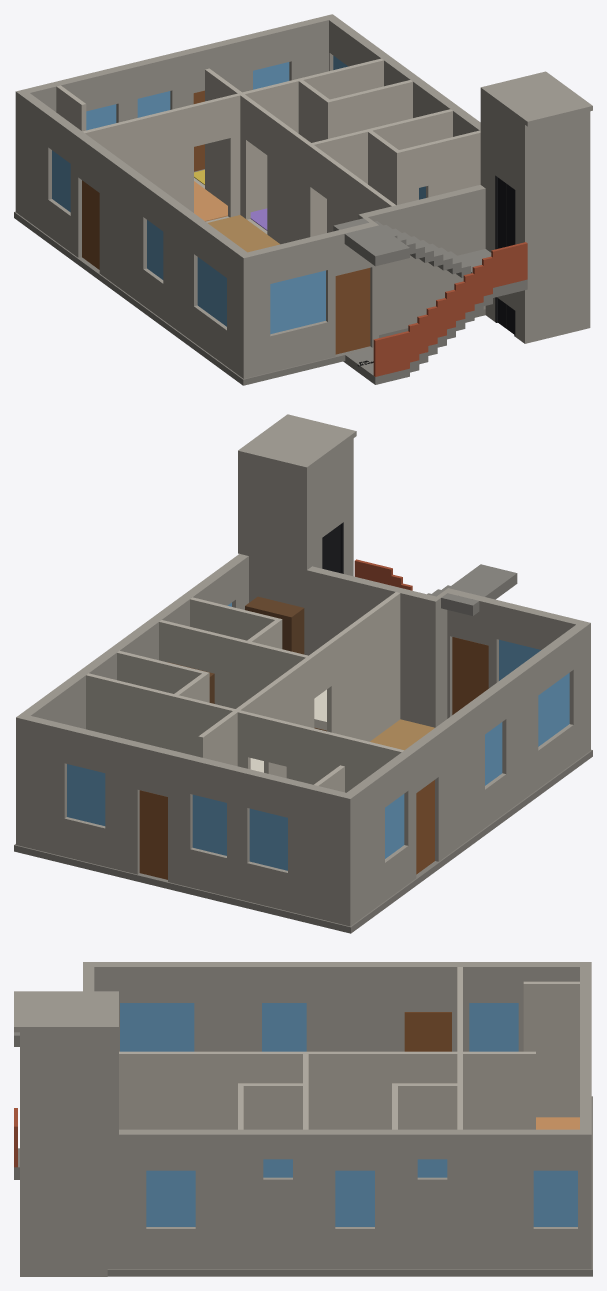
File: 07_second_floor.glb
3 renders of one model, top to bottom at view 1: azimuth 30°, elevation 25°; view 2: azimuth 150°, elevation 25°; view 3: azimuth 270°, elevation 25°, orthographic. The views are drawn at different scales.
Visible parts, largest first — view 1: SF_Wall_Exterior, SF_Wall_Interior, SF_Lift_Shaft, SF_Glass, SF_Stair_Guard, SF_Stair_Flight, SF_Door_Wood, SF_Slab_RCC, SF_Lift_Doors, SF_Floor_Hall, SF_Floor_Dining; view 2: SF_Wall_Exterior, SF_Wall_Interior, SF_Lift_Shaft, SF_Glass, SF_Door_Wood, SF_Slab_RCC, SF_Stair_Flight, SF_Furn_Wood, SF_Floor_Hall, SF_Lift_Doors, SF_Stair_Guard; view 3: SF_Wall_Exterior, SF_Wall_Interior, SF_Lift_Shaft, SF_Glass, SF_Slab_RCC, SF_Door_Wood, SF_Floor_Dining.
Part boxes in pixels (box(x1,y1,x2,y2)): SF_Wall_Exterior: box(15, 14, 485, 378); SF_Wall_Interior: box(56, 58, 480, 244); SF_Lift_Shaft: box(480, 71, 592, 343); SF_Glass: box(52, 56, 347, 334); SF_Stair_Guard: box(373, 242, 527, 376); SF_Stair_Flight: box(333, 218, 527, 384); SF_Door_Wood: box(82, 90, 370, 354); SF_Slab_RCC: box(14, 169, 485, 385); SF_Lift_Doors: box(495, 175, 515, 336); SF_Floor_Hall: box(208, 215, 279, 252); SF_Floor_Dining: box(194, 181, 227, 221); SF_Wall_Exterior: box(16, 554, 590, 926); SF_Wall_Interior: box(86, 592, 403, 792); SF_Lift_Shaft: box(238, 414, 356, 576); SF_Glass: box(67, 602, 569, 870); SF_Door_Wood: box(139, 637, 488, 879); SF_Slab_RCC: box(14, 749, 592, 933); SF_Stair_Flight: box(427, 564, 517, 615); SF_Furn_Wood: box(168, 596, 326, 731); SF_Floor_Hall: box(370, 719, 434, 750); SF_Lift_Doors: box(322, 522, 343, 573); SF_Stair_Guard: box(354, 559, 412, 590); SF_Wall_Exterior: box(83, 962, 591, 1269); SF_Wall_Interior: box(119, 967, 579, 1129); SF_Lift_Shaft: box(14, 991, 118, 1276); SF_Glass: box(120, 1003, 577, 1226); SF_Slab_RCC: box(107, 1096, 592, 1276); SF_Door_Wood: box(404, 1012, 451, 1051); SF_Floor_Dining: box(536, 1117, 579, 1129).
Bounding box in the file's own units: 8.31 × 5.62 × 11.69.
